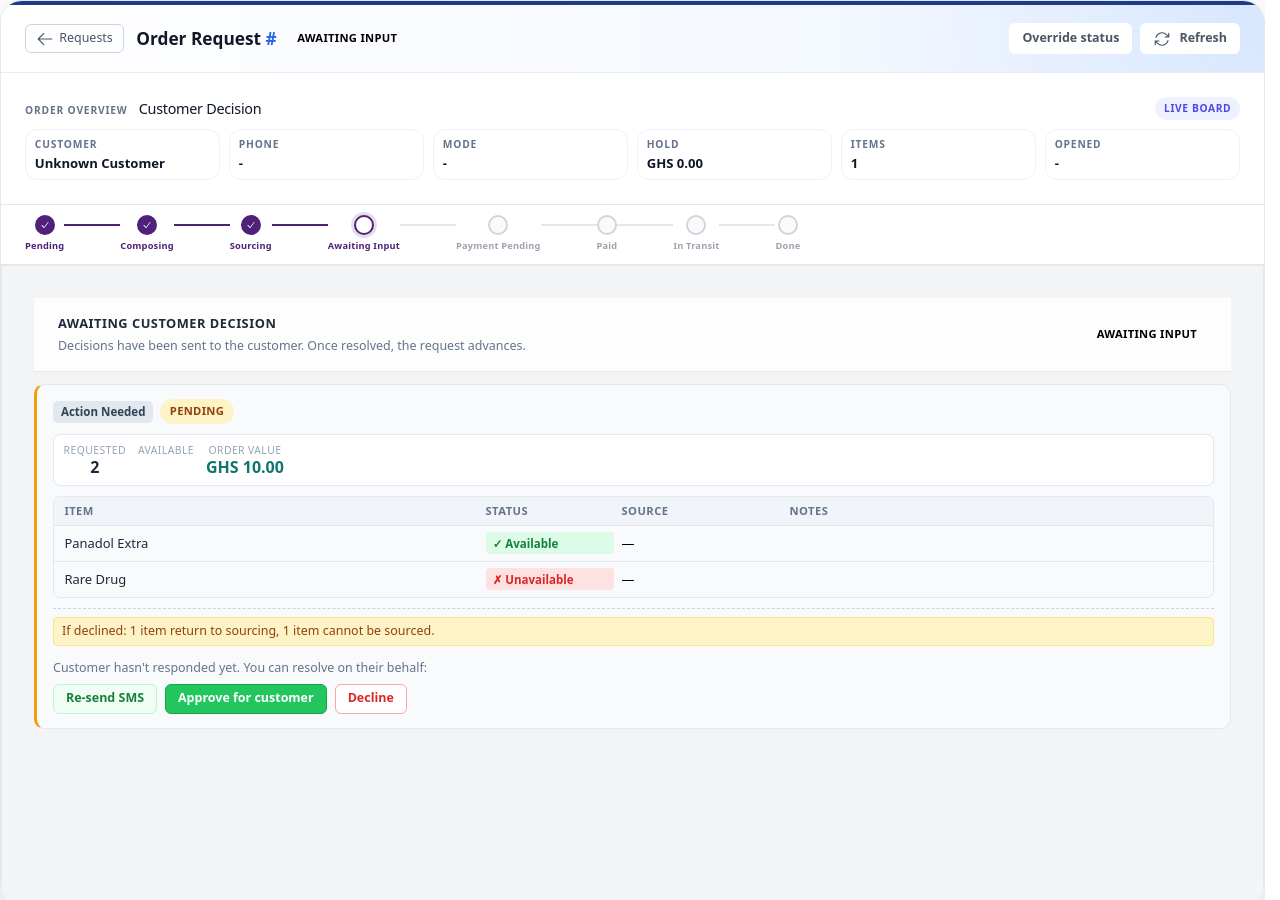
decisions waiting on the customer › re-sends the SMS and refreshes the request
Click the button "Re-send SMS" at (105, 699), box [53,684,157,714]
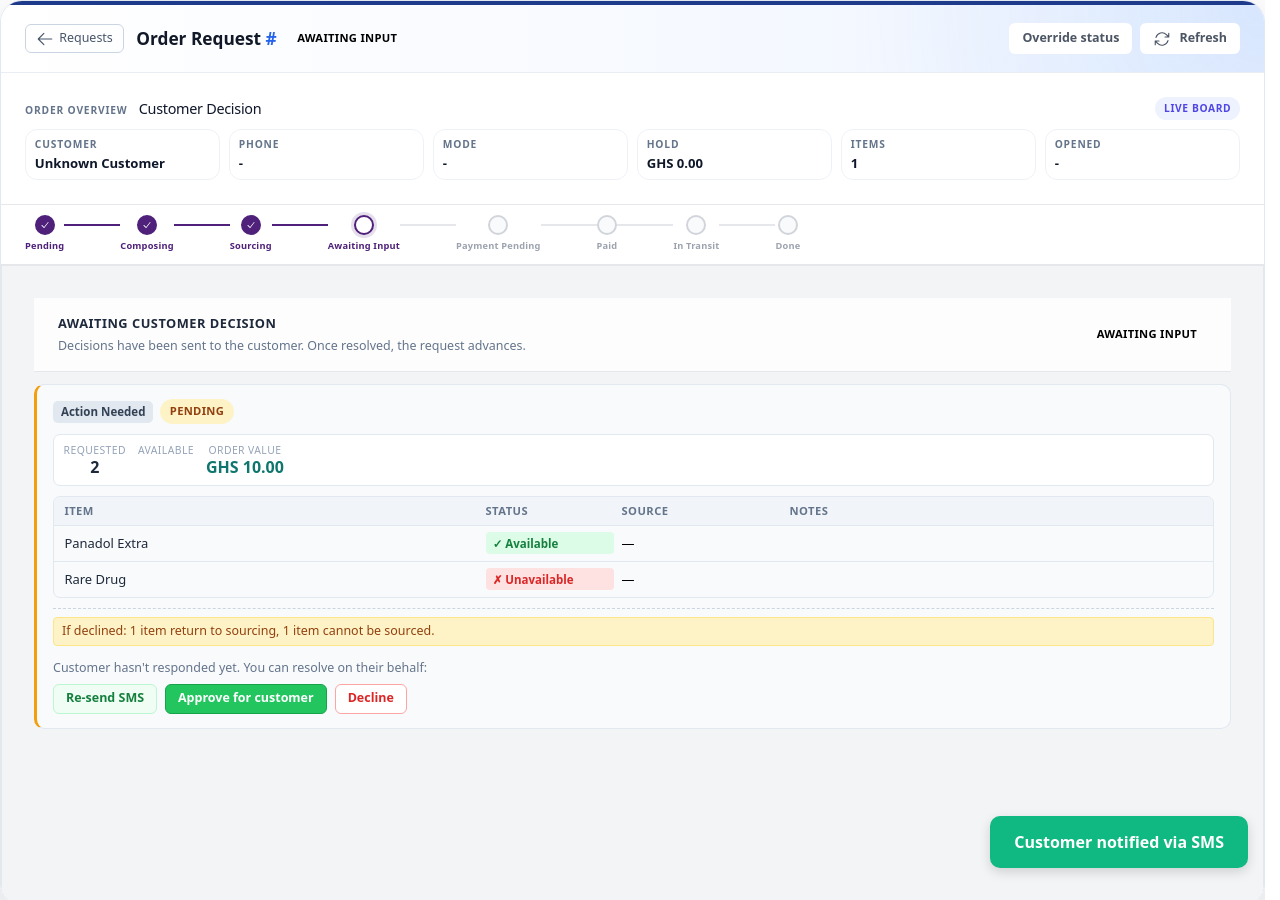
Expected: the text "Customer notified via SMS" is shown, [990,816,1248,868]
